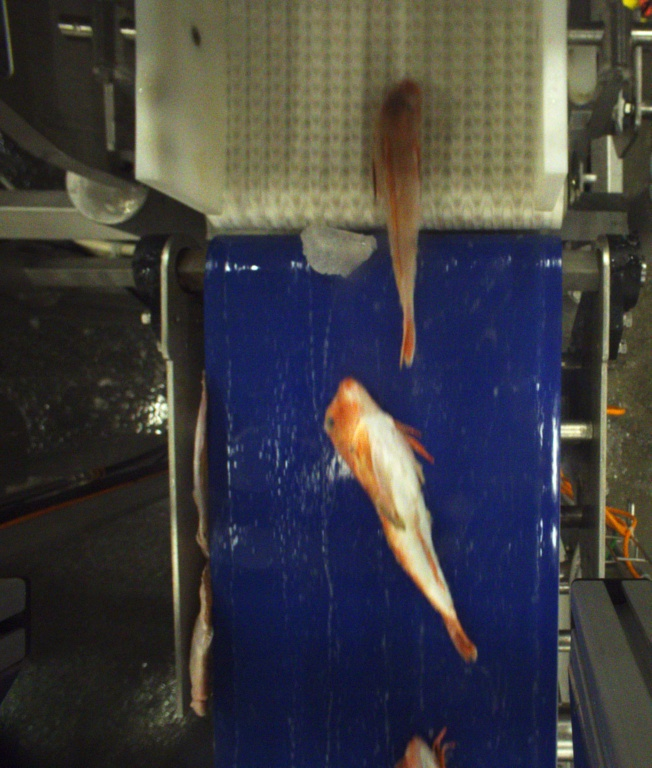GUU: (400, 726, 454, 768)
